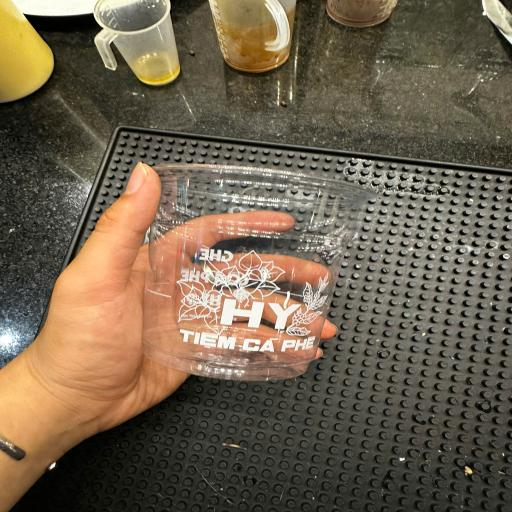ly_nhua: (131, 150, 387, 397)
